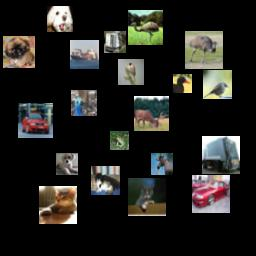automobile: (192, 175, 230, 213), (18, 103, 53, 138)
bird: (185, 31, 223, 69), (128, 10, 163, 45), (203, 70, 232, 99), (71, 90, 97, 116), (118, 59, 144, 85), (173, 74, 192, 93)
cat: (39, 186, 77, 224), (128, 178, 166, 216), (91, 166, 120, 195)
deer: (134, 96, 169, 131), (151, 153, 173, 175)
dog: (3, 36, 35, 68), (47, 6, 73, 32), (56, 153, 78, 175)
frog: (110, 131, 129, 150)
ship: (70, 40, 99, 69)
truck: (202, 136, 240, 174), (104, 31, 126, 53)
